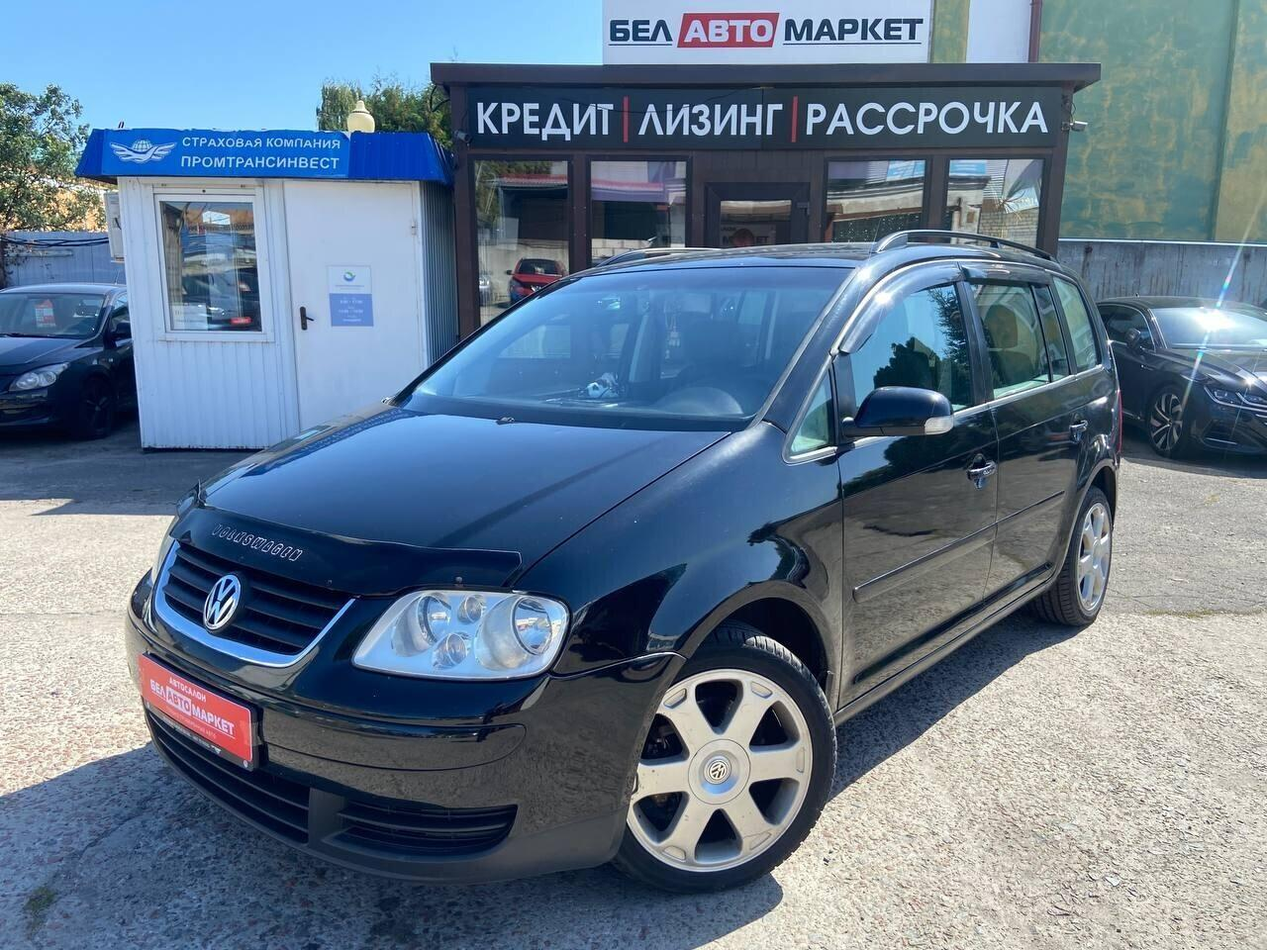Touran_2003-2006: (122, 238, 1123, 904)
